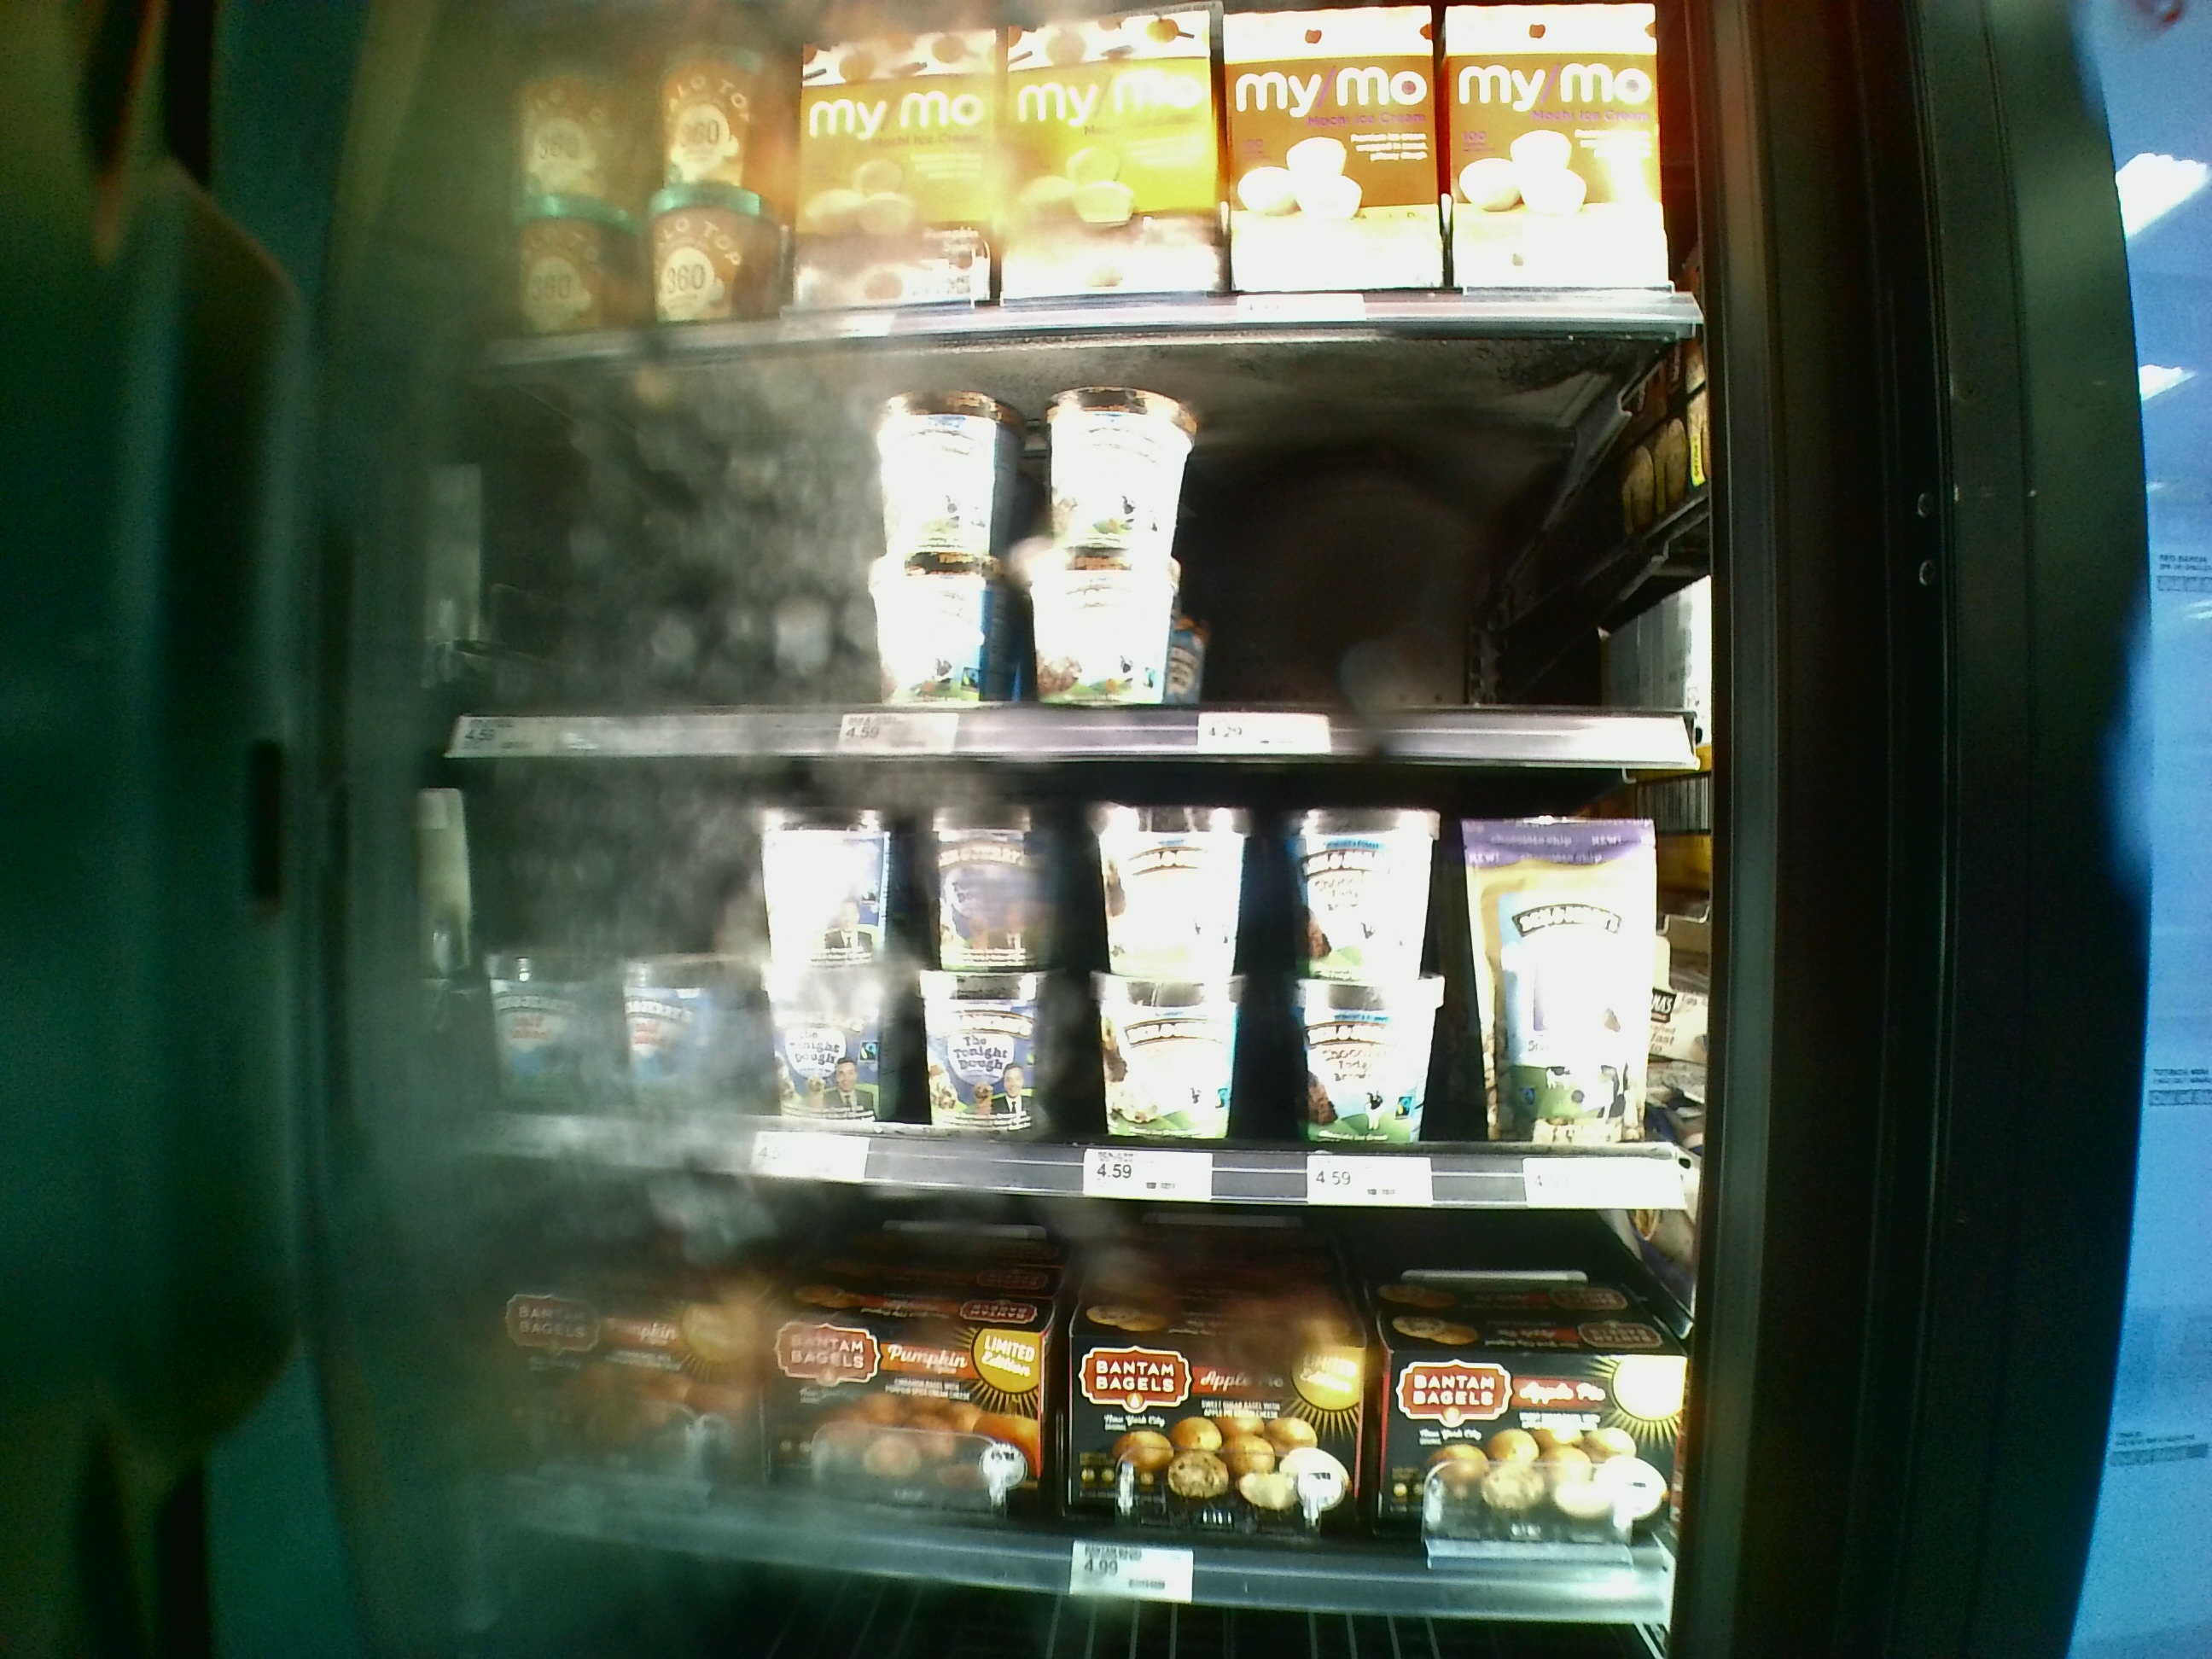shelf: (435, 730, 1689, 1204), (435, 1164, 1669, 1603), (444, 336, 1707, 760)
